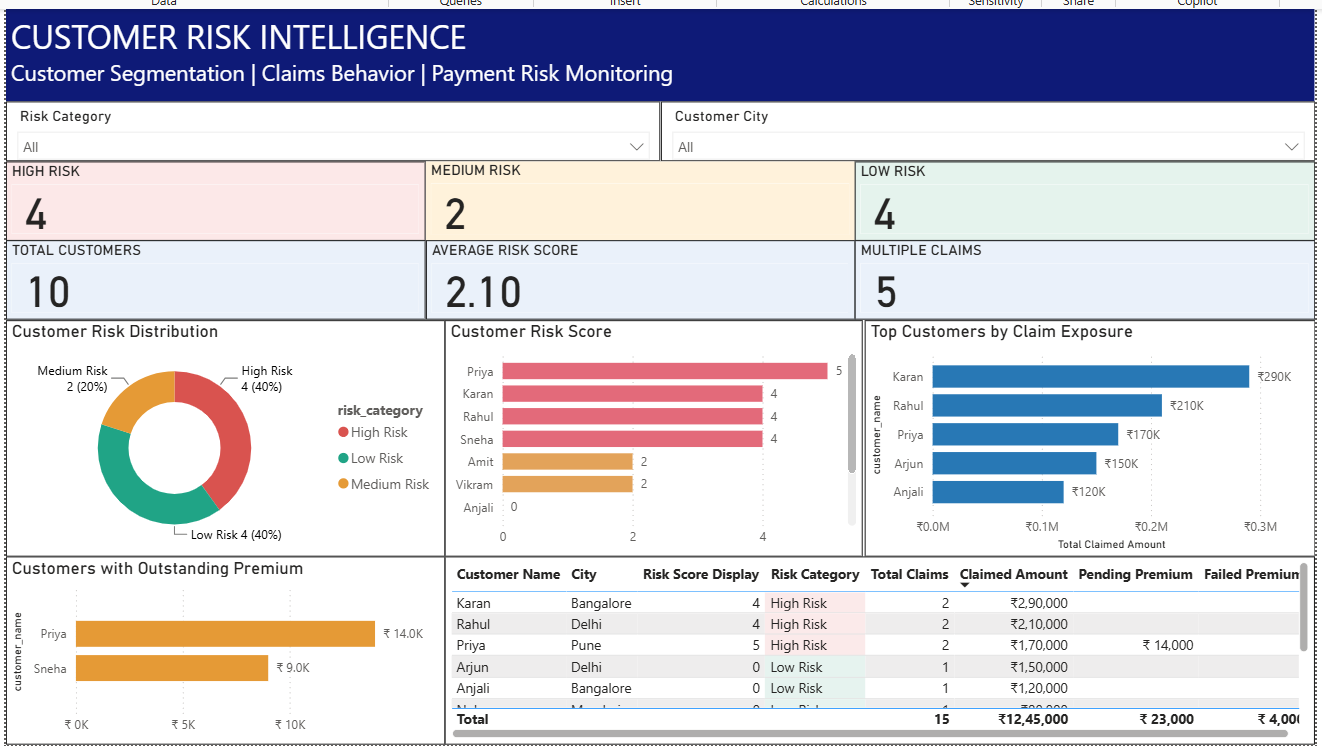

What the dashboard file says about the page in this screenshot:
{"tool":"powerbi","page":{"name":"Customer Risk Intelligence","canvas":[1280,720],"ordinal":4},"visuals":[{"type":"textbox","box":[0,0,1280.3,90.3],"z":0},{"type":"slicer","fields":{"Values":["FactCustomerRisk.risk_category"]},"box":[0,90.3,640.2,58.6],"z":1},{"type":"slicer","fields":{"Values":["DimCustomer.city"]},"box":[640.2,90.3,640.2,58.6],"z":2},{"type":"cardVisual","title":"HIGH RISK","fields":{"Data":["Measures (2).High Risk Customers"]},"box":[0,149.2,410.4,77.6],"z":3},{"type":"cardVisual","title":"MEDIUM RISK","fields":{"Data":["Measures (2).Medium Risk Customers"]},"box":[410.4,148.9,419.9,77.6],"z":4},{"type":"cardVisual","title":"LOW RISK","fields":{"Data":["Measures (2).Low Risk Customers"]},"box":[830.3,148.9,450,77.6],"z":5},{"type":"cardVisual","title":"TOTAL CUSTOMERS","fields":{"Data":["DimPolicy.Total Customers"]},"box":[0,226.6,410.4,77.6],"z":6},{"type":"cardVisual","title":"AVERAGE RISK SCORE","fields":{"Data":["Measures (2).Average Customer Risk Score"]},"box":[410.4,226.6,419.9,77.6],"z":7},{"type":"cardVisual","title":"MULTIPLE CLAIMS","fields":{"Data":["FactClaims.Customers with Multiple Claims"]},"box":[830.3,226.6,450,77.6],"z":8},{"type":"donutChart","title":"Customer Risk Distribution","fields":{"Category":["FactCustomerRisk.risk_category"],"Y":["CountNonNull(FactCustomerRisk.customer_id)"]},"box":[0,304.2,429.4,231.3],"z":9},{"type":"clusteredBarChart","title":"Customer Risk Score","fields":{"Category":["DimCustomer.customer_name"],"Y":["Sum(FactCustomerRisk.risk_score)"]},"box":[429.4,304.2,408.8,231.3],"z":10},{"type":"clusteredBarChart","title":"Top Customers by Claim Exposure","fields":{"Category":["DimCustomer.customer_name"],"Y":["FactClaims.Total Claimed Amount"]},"box":[839.8,304.2,440.5,231.3],"z":11},{"type":"clusteredBarChart","title":"Customers with Outstanding Premium","fields":{"Category":["DimCustomer.customer_name"],"Y":["Measures (2).Pending Premium"]},"box":[0,535.6,429.4,183.8],"z":12},{"type":"tableEx","fields":{"Values":["DimCustomer.customer_name","DimCustomer.city","DimClaimDate.Risk Score Display","FactCustomerRisk.risk_category","Measures (2).Total Claims","FactClaims.Total Claimed Amount","Measures (2).Pending Premium","FactPremiumPayments.Failed Premium"]},"box":[429.4,535.6,850.9,183.8],"z":13}]}

Visuals, with their boxes in screenshot pixels (x1, y1, x2, y2):
textbox: 3/7/1307/99
slicer - FactCustomerRisk.risk_category: 3/99/656/159
slicer - DimCustomer.city: 656/99/1308/159
"HIGH RISK" cardVisual: 3/159/421/238
"MEDIUM RISK" cardVisual: 421/159/849/238
"LOW RISK" cardVisual: 849/159/1307/238
"TOTAL CUSTOMERS" cardVisual: 3/238/421/317
"AVERAGE RISK SCORE" cardVisual: 421/238/849/317
"MULTIPLE CLAIMS" cardVisual: 849/238/1307/317
"Customer Risk Distribution" donutChart: 3/317/441/552
"Customer Risk Score" clusteredBarChart: 441/317/857/552
"Top Customers by Claim Exposure" clusteredBarChart: 859/317/1307/552
"Customers with Outstanding Premium" clusteredBarChart: 3/552/441/740
tableEx - DimCustomer.customer_name x DimCustomer.city: 441/552/1307/740
